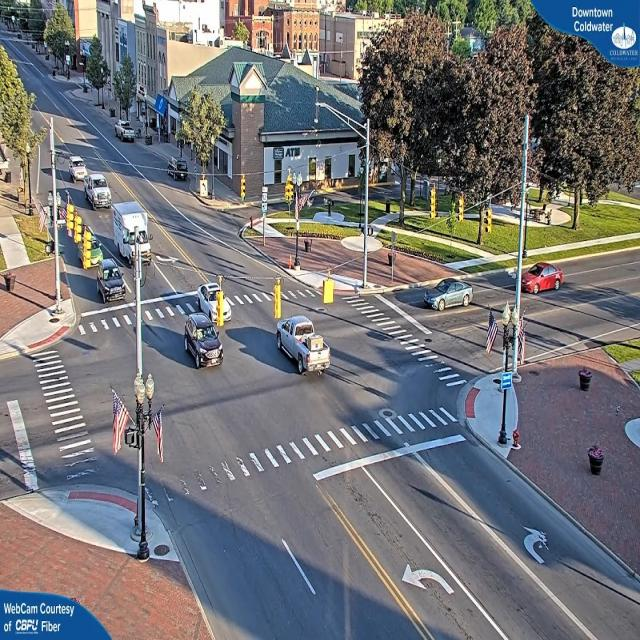car: (274, 314, 328, 378), (181, 316, 221, 369), (424, 276, 474, 310), (198, 283, 235, 320), (524, 264, 562, 296), (99, 264, 127, 304), (83, 173, 112, 211), (165, 159, 189, 180), (116, 123, 136, 143)
truck: (112, 201, 156, 267)
